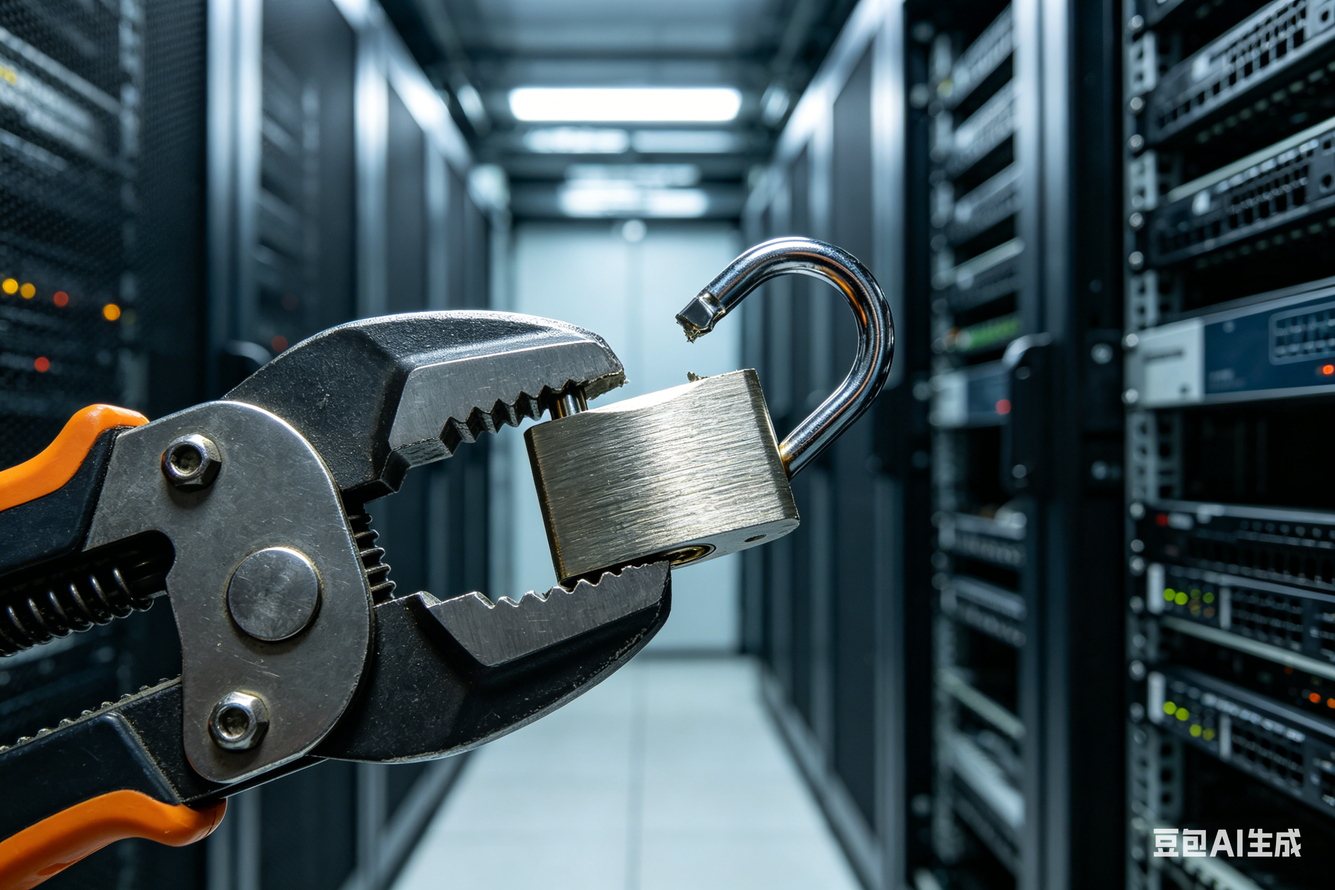BadLock: (607, 285, 814, 428)
